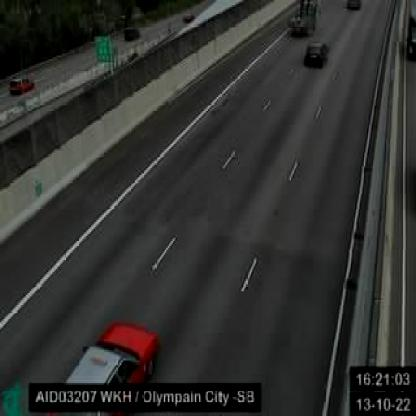Car: (46, 322, 158, 414), (8, 71, 36, 96), (305, 41, 327, 69)
Truck: (289, 0, 320, 38)
